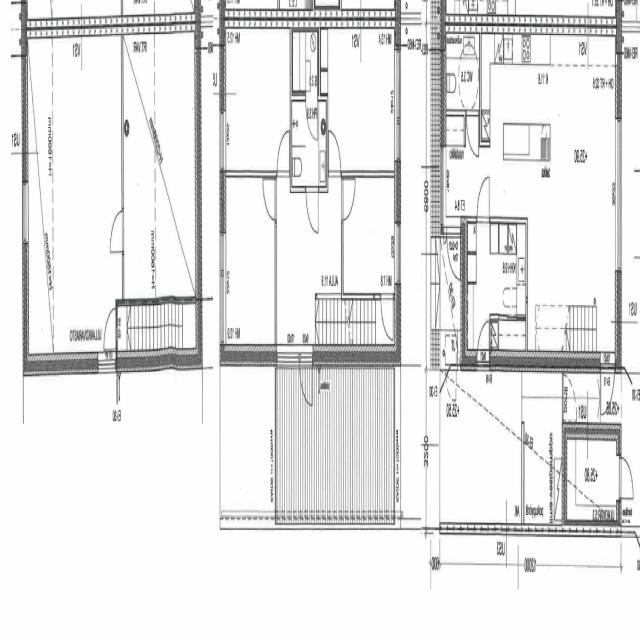door: (601, 351, 615, 422), (476, 305, 490, 372), (300, 345, 313, 407), (616, 456, 634, 498), (448, 218, 460, 278), (108, 209, 123, 253), (563, 374, 577, 421), (476, 174, 489, 223), (262, 180, 277, 222), (466, 110, 479, 158), (306, 187, 318, 236), (342, 179, 356, 221), (329, 132, 341, 177), (381, 294, 393, 339), (306, 94, 318, 138), (104, 310, 117, 349), (278, 134, 288, 176), (446, 218, 448, 246)
